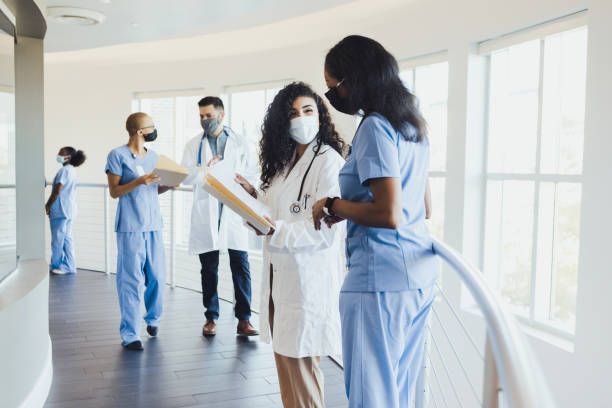with mask: (272, 84, 326, 148), (322, 50, 368, 117), (125, 109, 166, 148), (192, 97, 227, 137), (54, 143, 72, 170)
